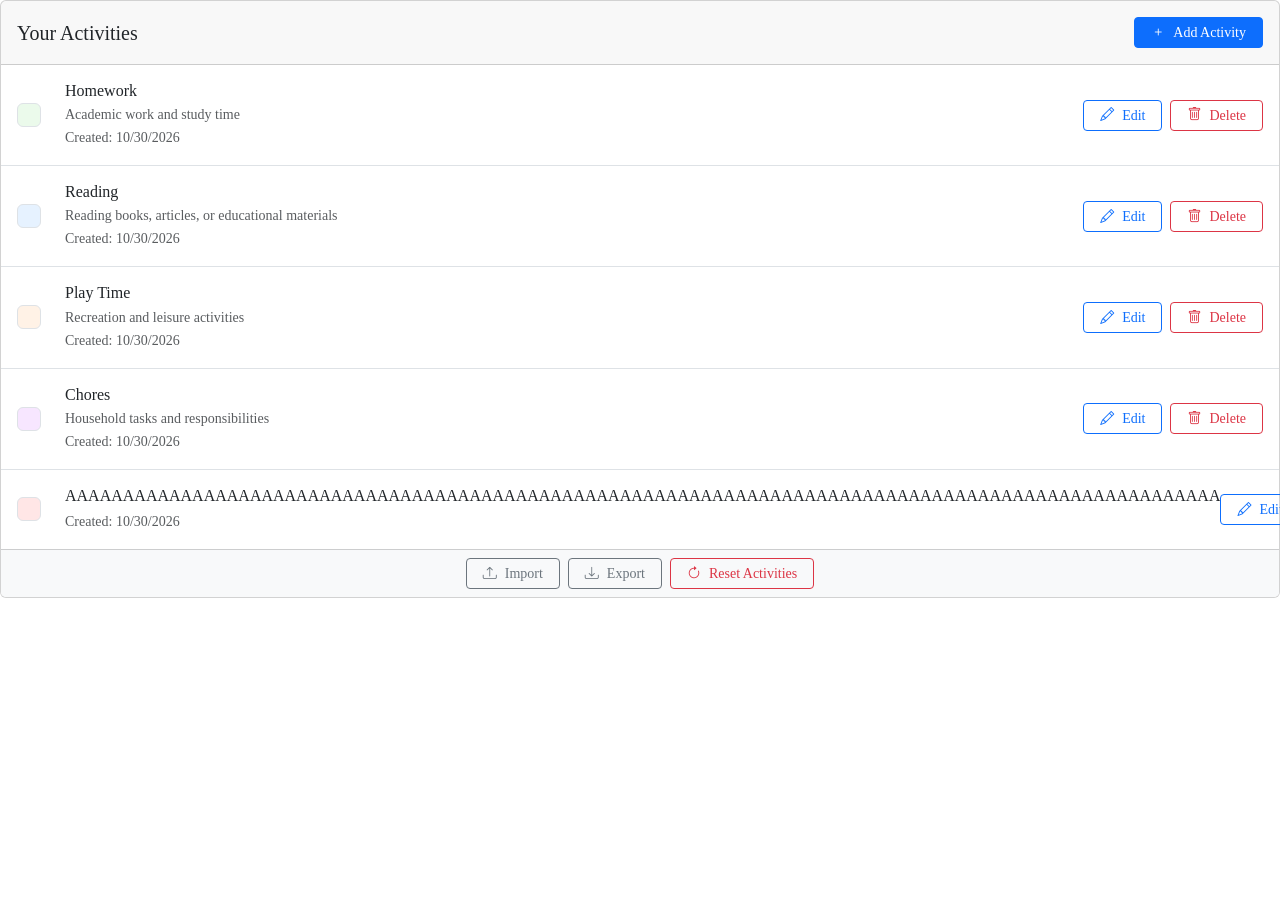
Test: ActivityCrud › supports Enter key to submit form
The width and height of the screenshot is (1280, 900).
Step 1. Click the button "Add Activity" → (1199, 32), box [1134, 17, 1263, 48]
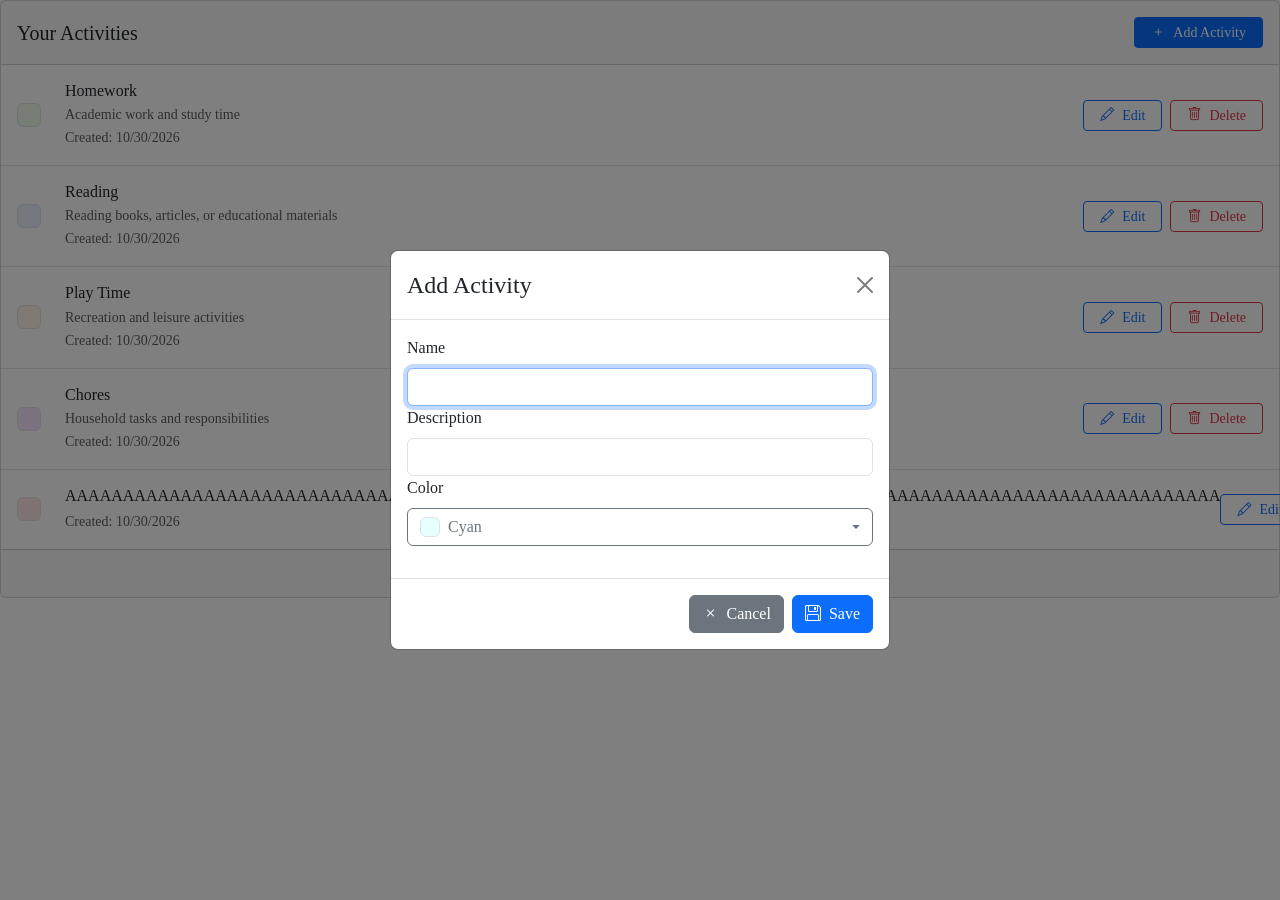
Step 2. Type "Enter Key Test" into the field labelled "Name" → (640, 387), box [407, 368, 873, 406]
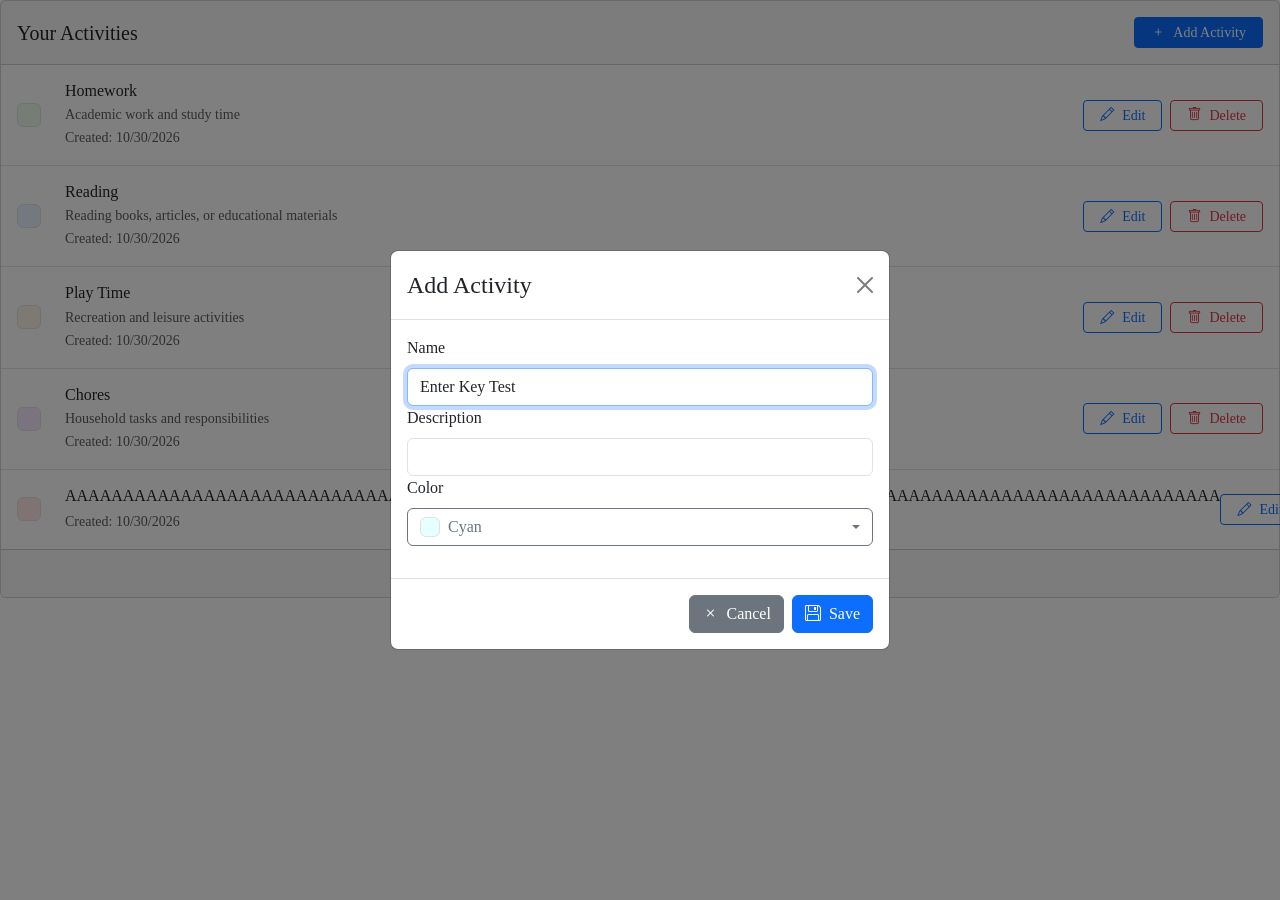
Step 3. Press Enter in the field labelled "Name", box [407, 368, 873, 406]
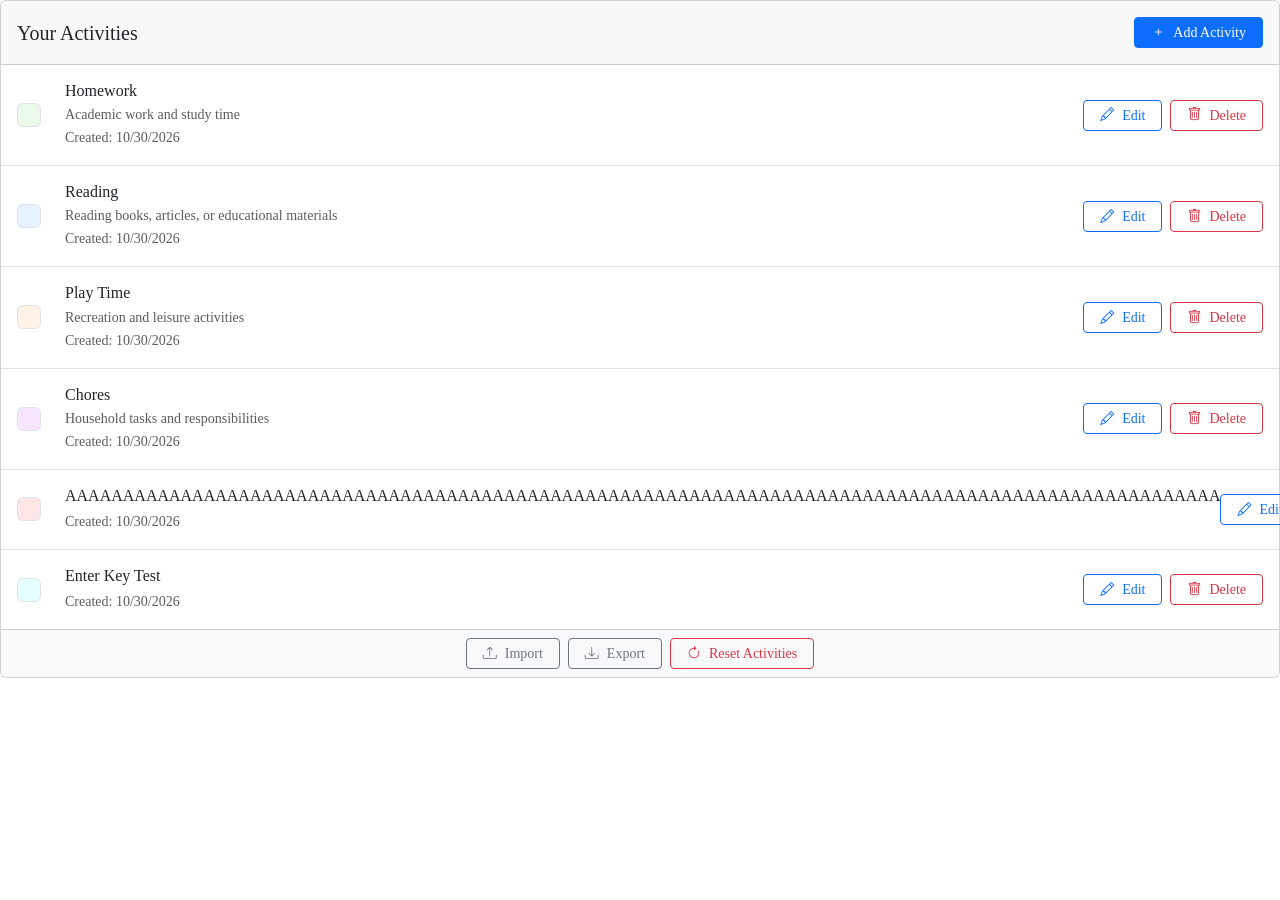
Expected: the heading "Enter Key Test" is shown, [65, 567, 160, 584]
